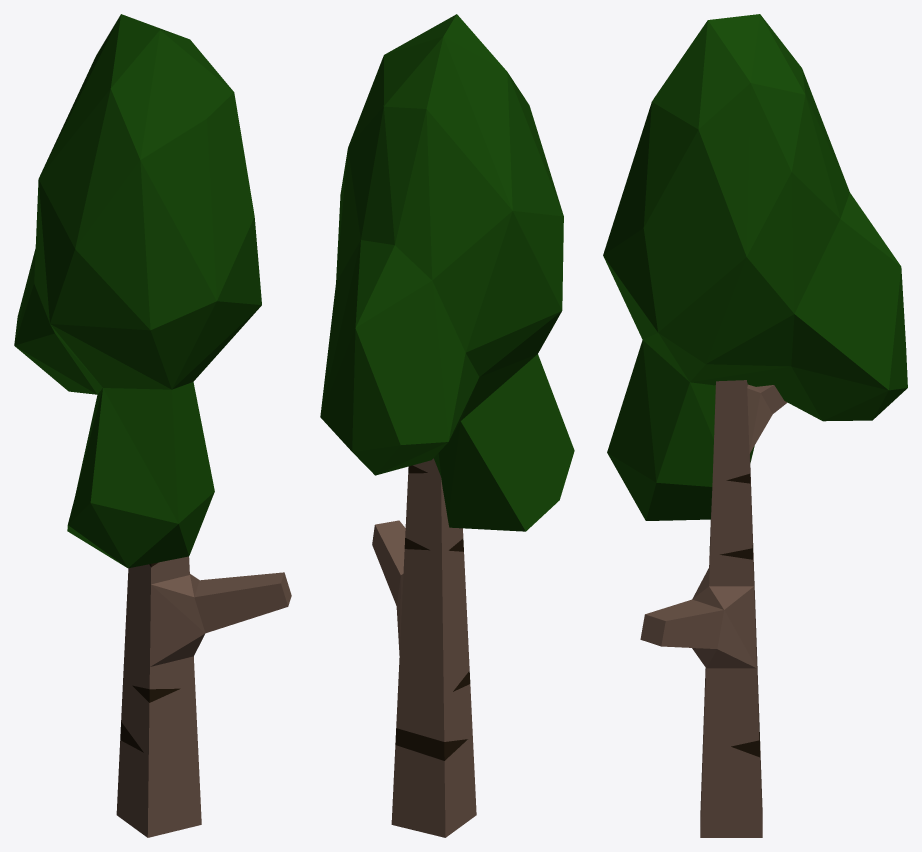
Rendered from SilverBirch1.fbx.glb.
3 views of the same model, side by side, from view 1: azimuth 30°, elevation 25°; view 2: azimuth 150°, elevation 25°; view 3: azimuth 270°, elevation 25° (orthographic).
Parts seen in each view (by area): view 1: SilverBirch1; view 2: SilverBirch1; view 3: SilverBirch1.
Boxes of the visible parts, box(x1,y1,x2,y2) form: SilverBirch1: box(14, 14, 291, 837); SilverBirch1: box(320, 14, 574, 837); SilverBirch1: box(603, 14, 907, 837).
Size of the model in its own units: 88.33 by 313 by 108.
